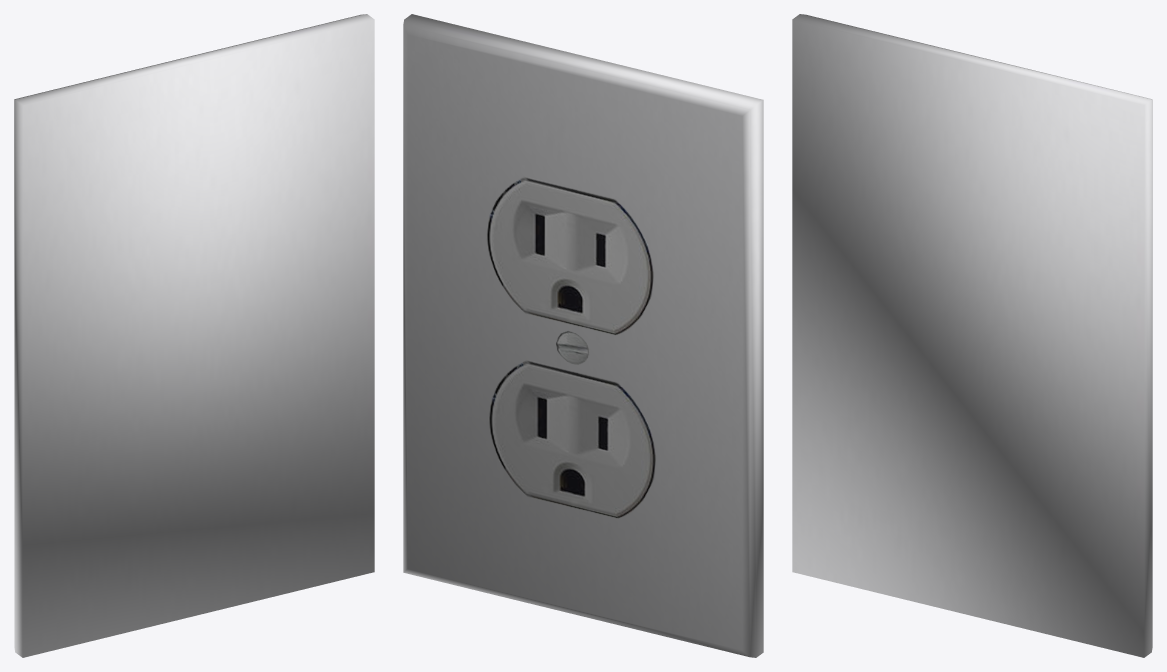
The model's file is outlet.fbx.
3 views of the same model, side by side, from view 1: azimuth 30°, elevation 25°; view 2: azimuth 150°, elevation 25°; view 3: azimuth 330°, elevation 25° (orthographic).
Parts seen in each view (by area): view 1: outlet; view 2: outlet; view 3: outlet.
Boxes of the visible parts, x1,y1,x2,y2 form: outlet: (14,14,374,657); outlet: (403,14,763,657); outlet: (792,14,1152,657).
Size of the model in its own units: 0.08 by 0.12 by 0.005.
1 material, 1 textured.
